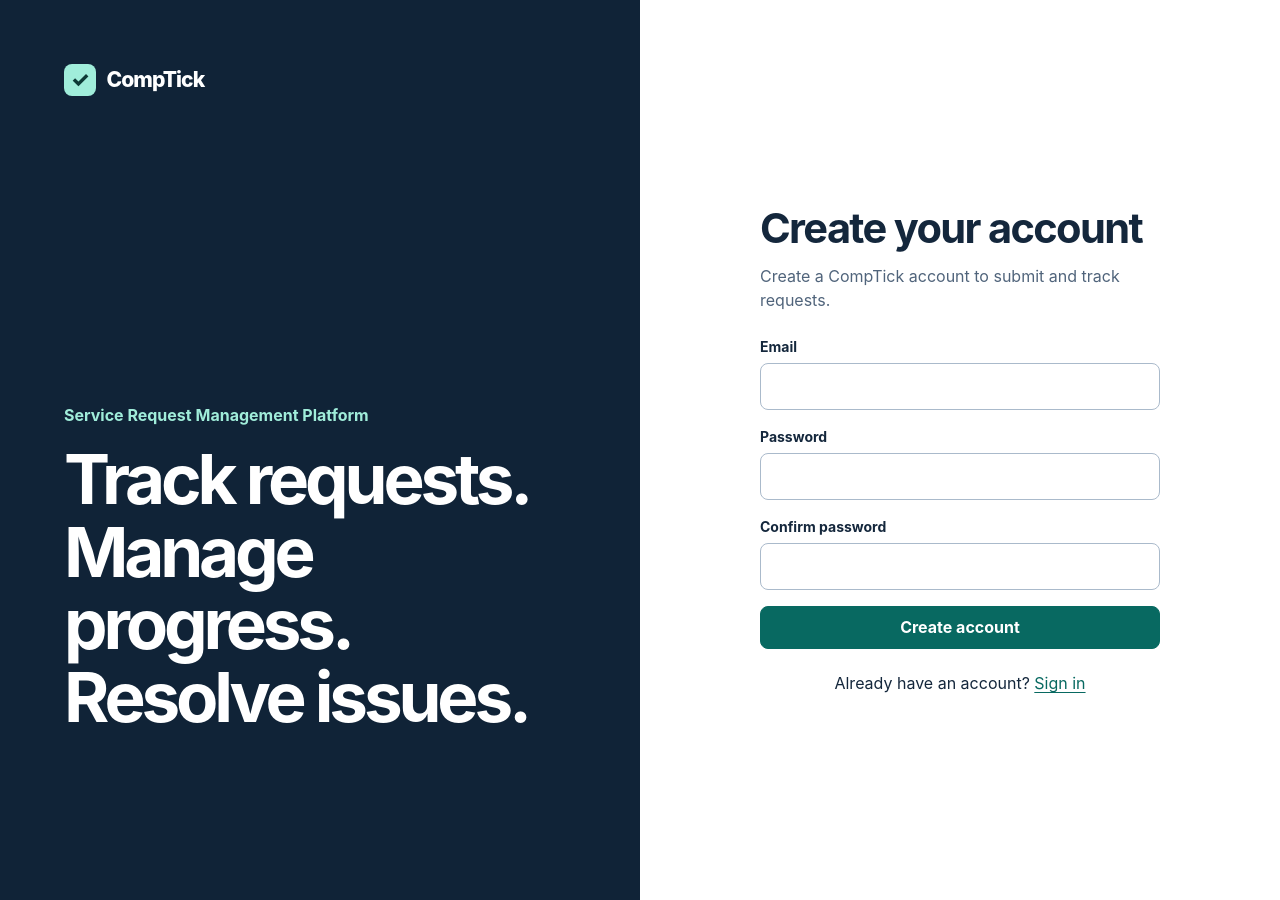
Test: validates confirmation and registers without sending a role
The image size is (1280, 900).
Type "member@example.com" into the field labelled "Email" at coordinates (960, 386), box [760,363,1160,410]
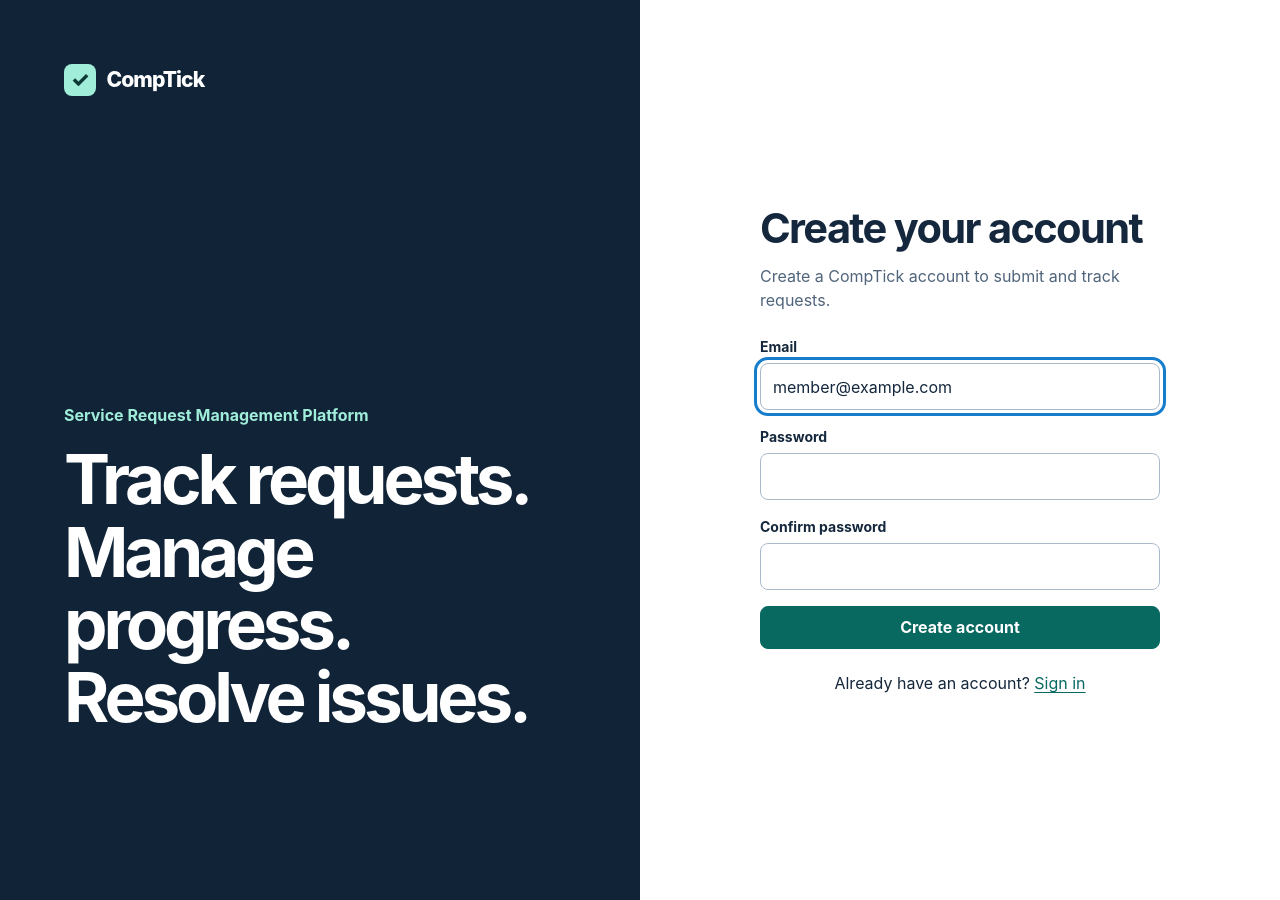
Type "testing-password" into the password field labelled "Password" at coordinates (960, 477), box [760,453,1160,500]
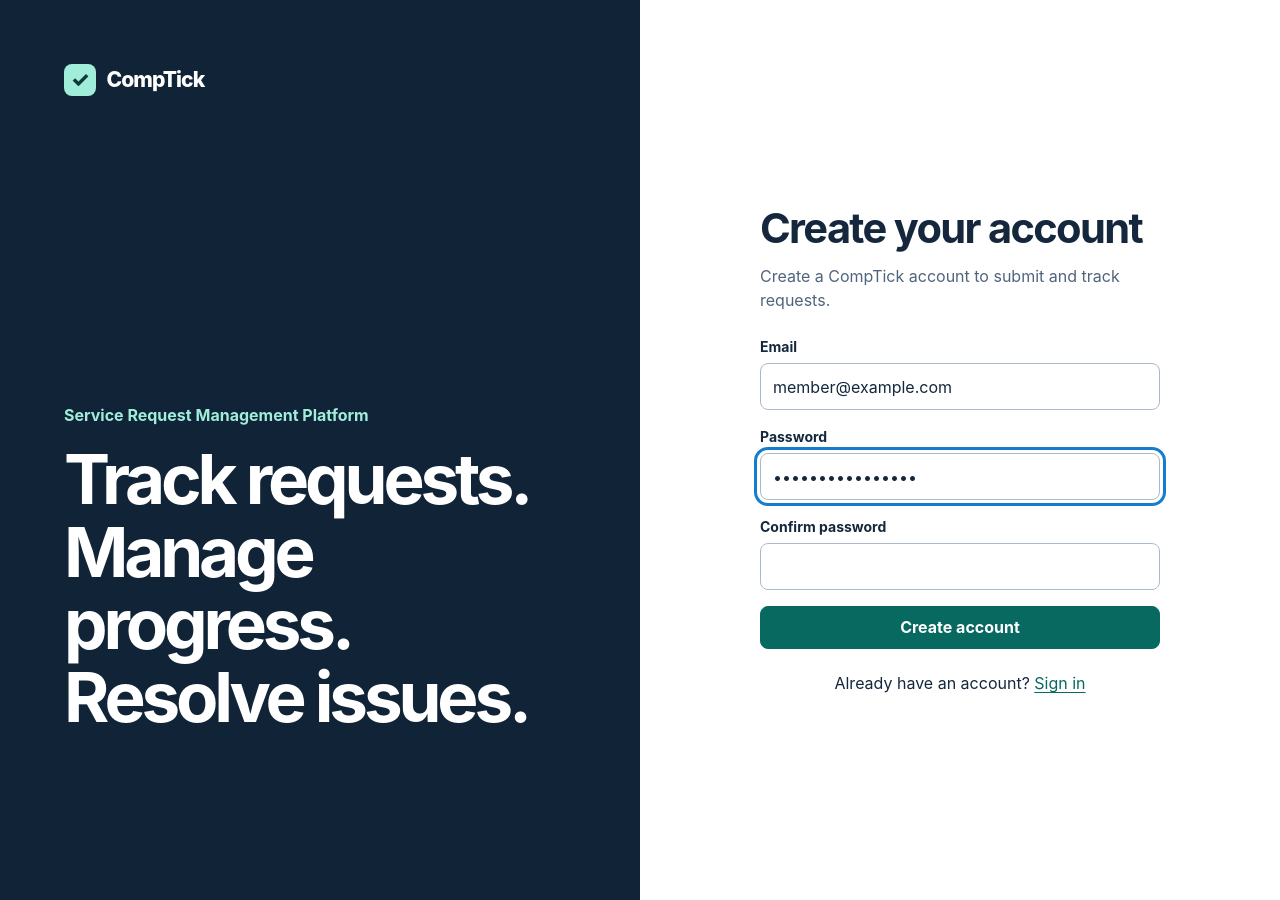
Click the button "Create account" at coordinates (960, 628), box [760,606,1160,649]
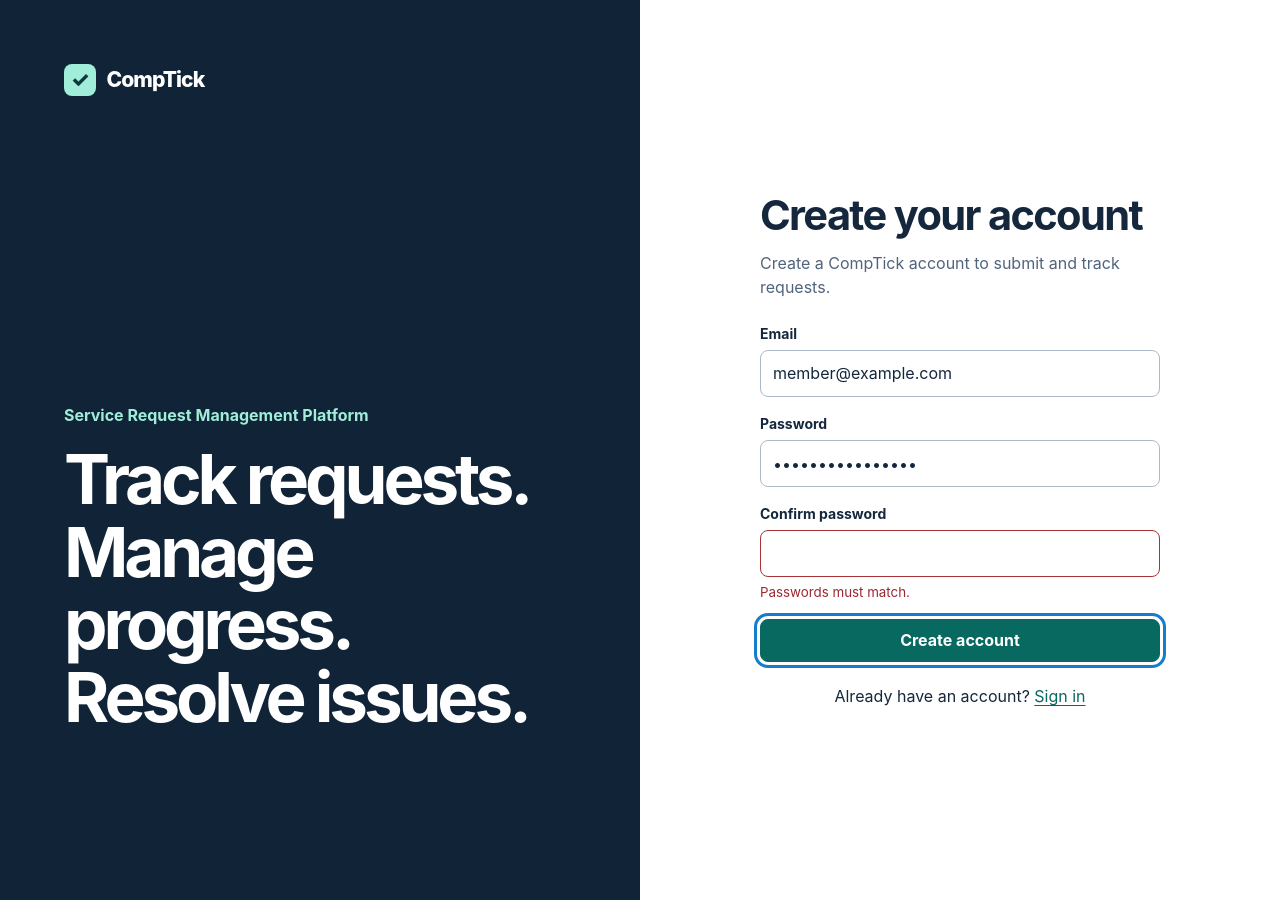
Result: the text "Passwords must match." is shown at [760,584,910,600]
Type "testing-password" into the password field labelled "Confirm password" at coordinates (960, 554), box [760,530,1160,577]
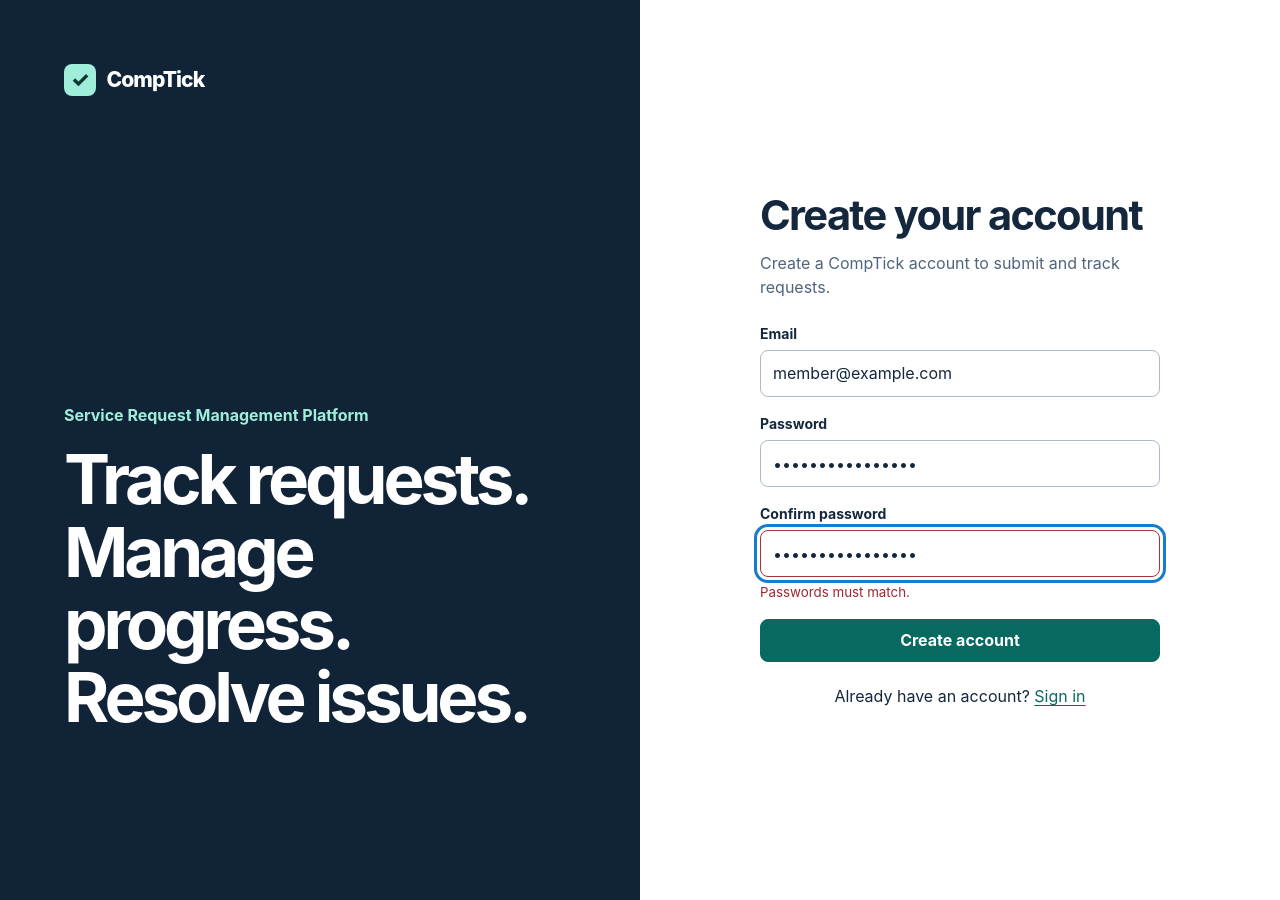
Click the button "Create account" at coordinates (960, 641), box [760,620,1160,662]
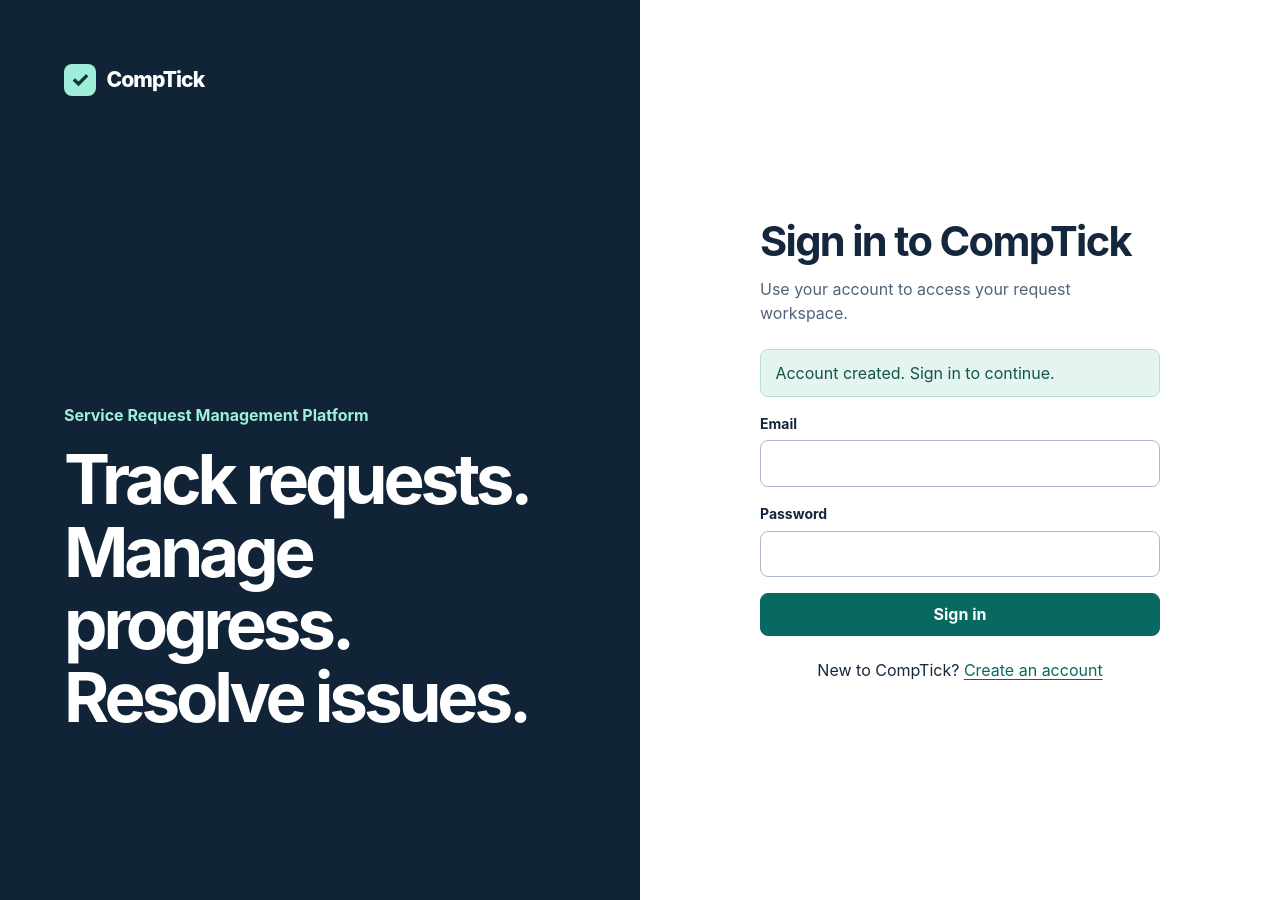
Result: the text "Account created. Sign in to continue." is shown at [760,349,1160,397]
